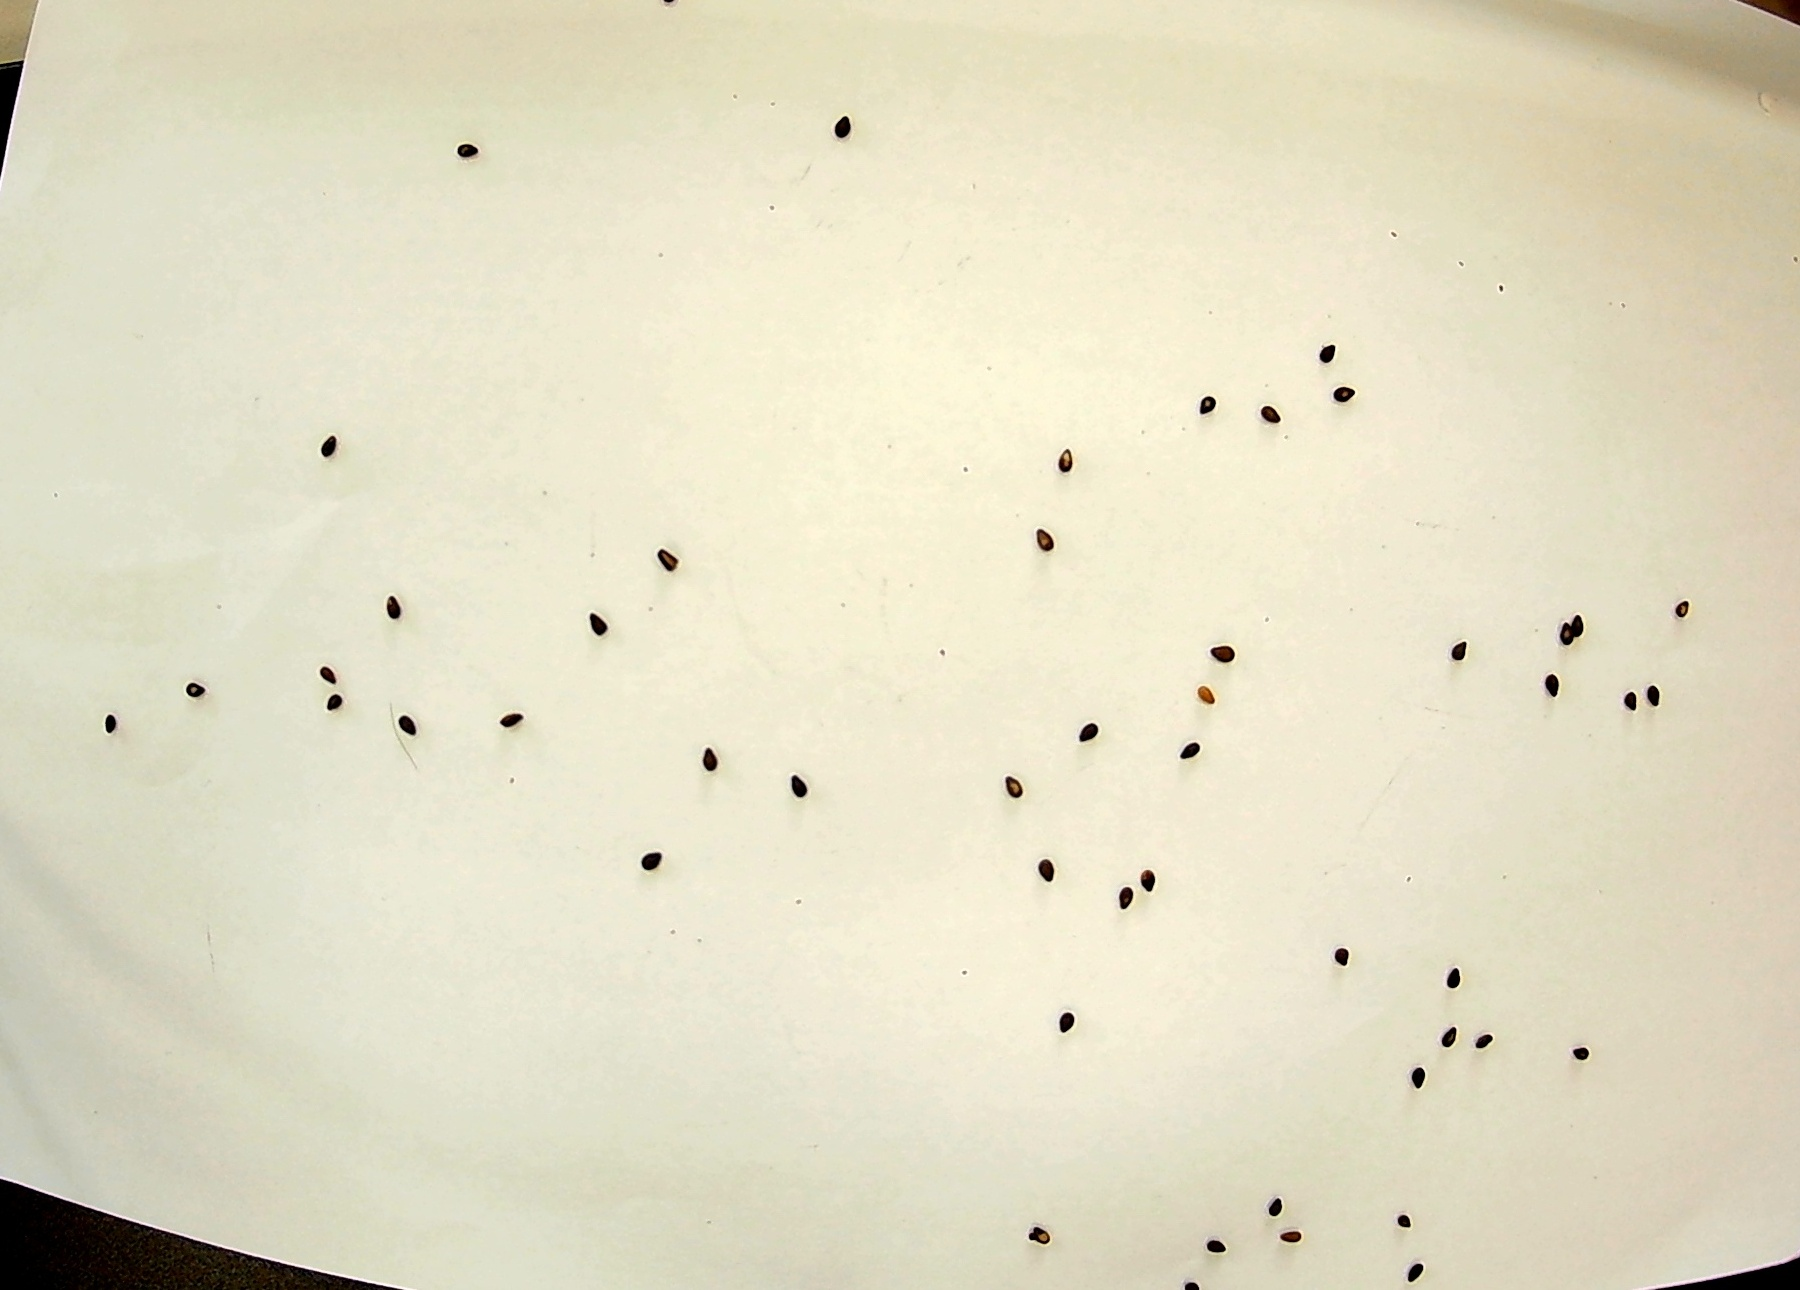sesami: (1173, 722, 1215, 778), (1545, 600, 1580, 660), (1619, 672, 1653, 727), (179, 666, 220, 711), (1051, 436, 1084, 489), (1529, 667, 1573, 708), (1323, 378, 1369, 415), (1024, 519, 1060, 565), (1245, 408, 1300, 437), (1081, 711, 1111, 761), (1005, 773, 1040, 815), (1393, 1252, 1432, 1289), (691, 741, 723, 785), (1409, 1065, 1450, 1099), (1434, 961, 1472, 995), (1312, 341, 1342, 383), (631, 845, 673, 875), (1193, 383, 1227, 420), (585, 606, 618, 644), (1049, 1002, 1081, 1041), (1645, 673, 1666, 730), (1574, 599, 1600, 644), (1326, 942, 1358, 979), (1193, 677, 1224, 715), (382, 591, 410, 631), (92, 701, 123, 737), (1019, 1227, 1065, 1251), (1268, 1227, 1312, 1252), (787, 764, 812, 807), (827, 114, 858, 149), (1561, 1033, 1592, 1068), (389, 706, 420, 741), (1112, 873, 1137, 914), (1031, 856, 1058, 895), (495, 706, 527, 739), (1674, 592, 1705, 625), (1478, 1023, 1503, 1064), (1134, 857, 1157, 899), (1206, 632, 1242, 658), (653, 544, 682, 574), (310, 660, 339, 690), (1448, 632, 1479, 660), (1259, 1196, 1296, 1219), (328, 697, 353, 727), (1443, 1023, 1462, 1062), (320, 427, 339, 466), (1203, 1236, 1238, 1256), (1388, 1215, 1419, 1238), (451, 140, 487, 156)
